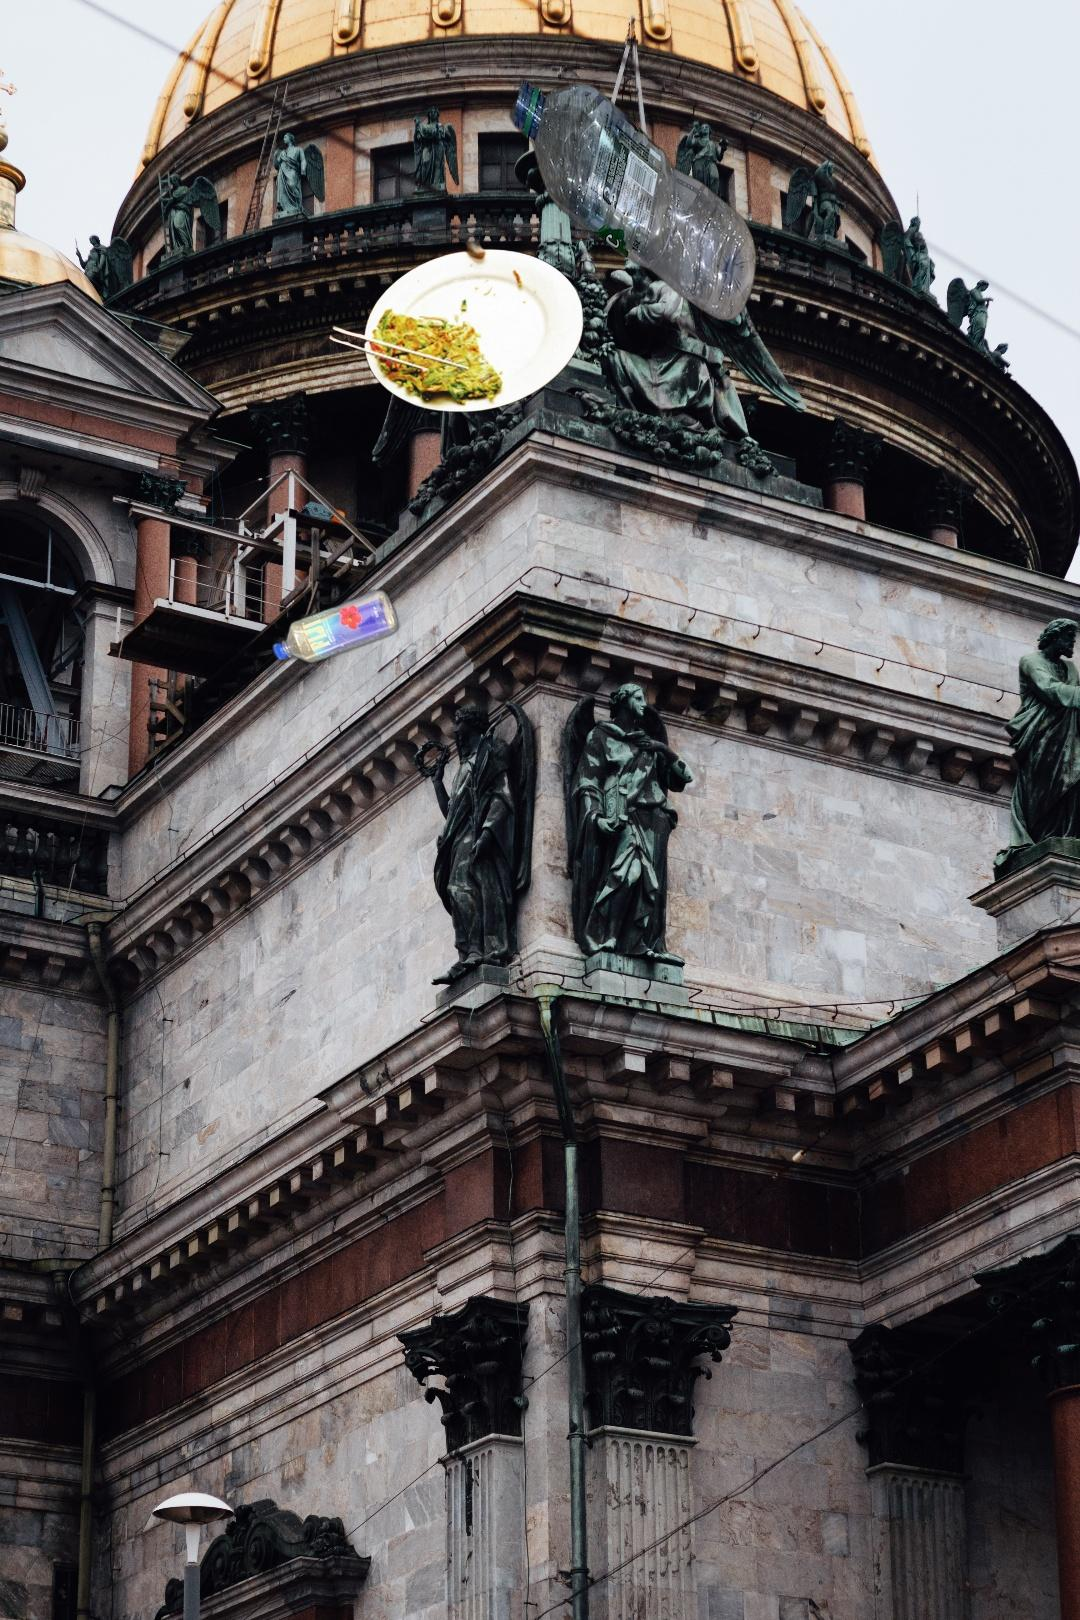biological: (190, 235, 586, 415)
plastic-bottles: (188, 585, 403, 1158), (507, 70, 759, 325), (982, 231, 1080, 843)
